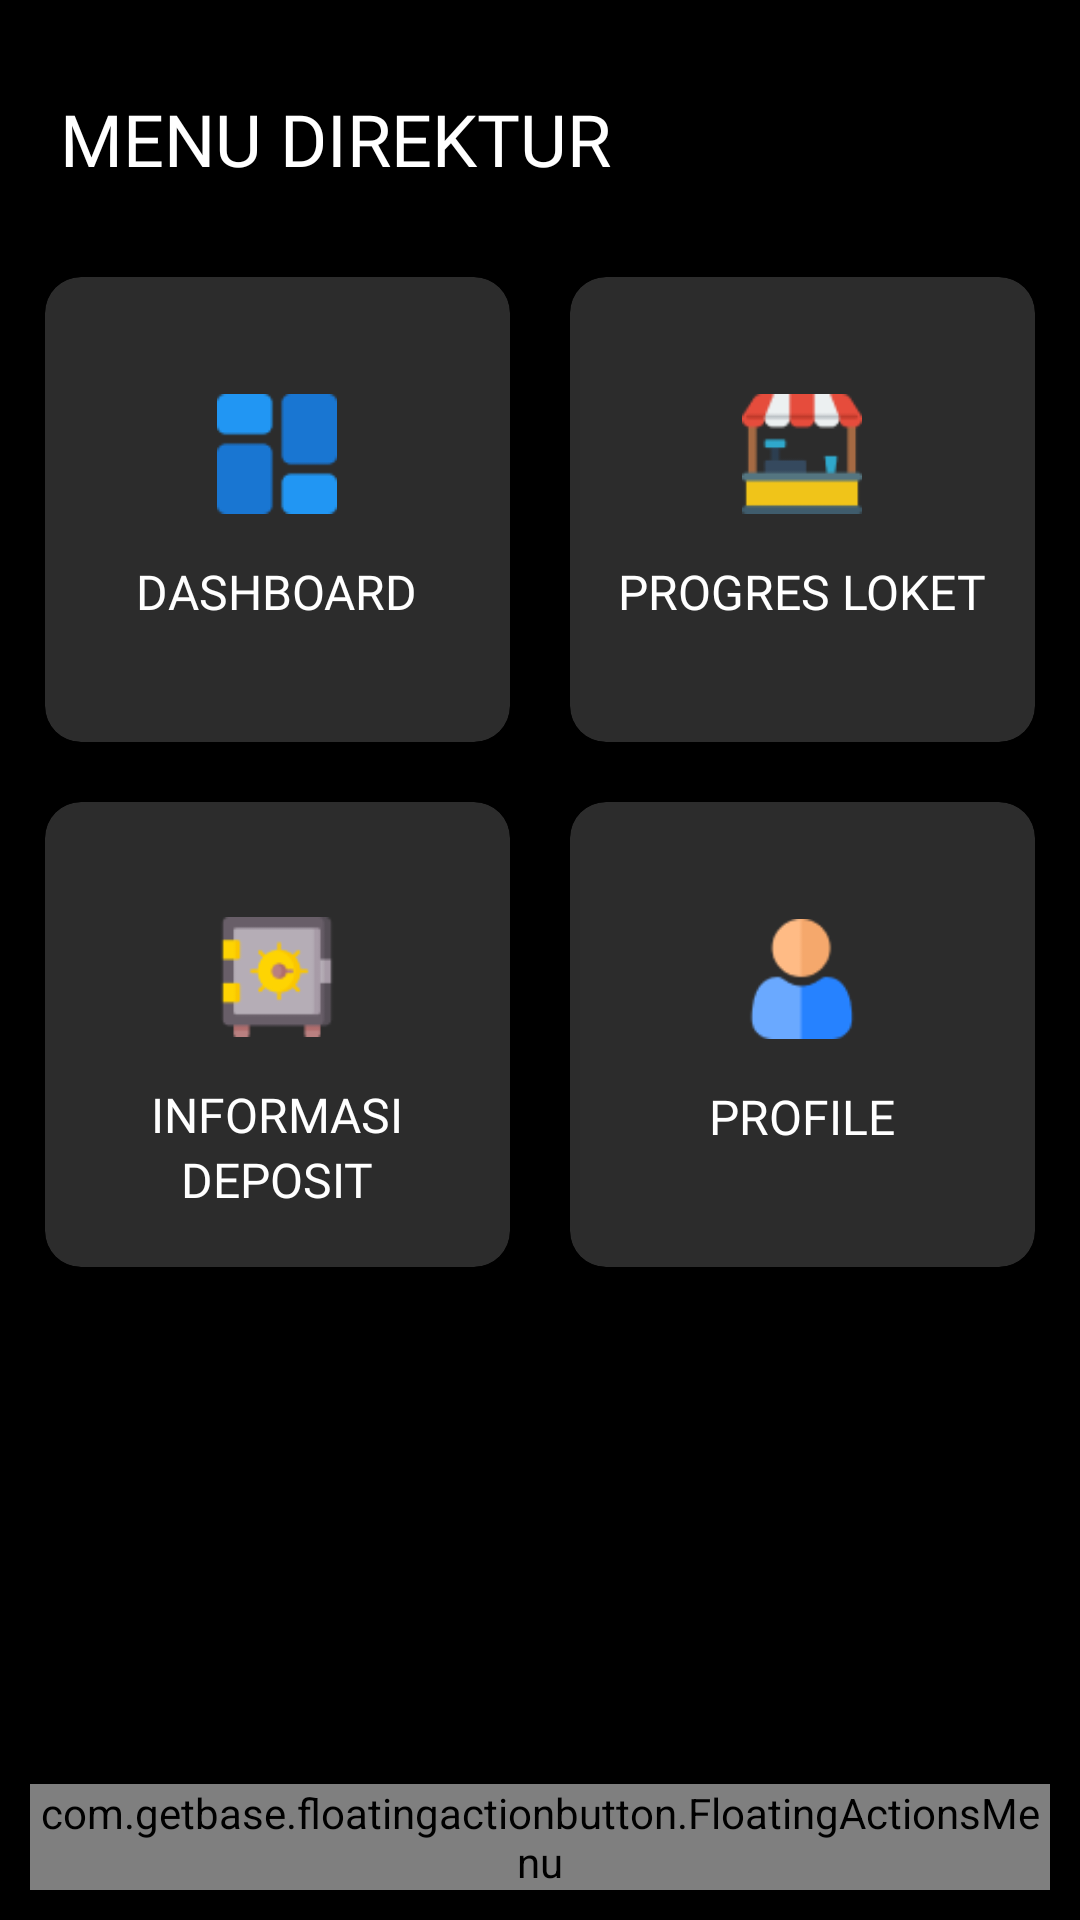

Named icons in this screenshot (1080x1920) and their centers, (x,y):
user: (801,979)
